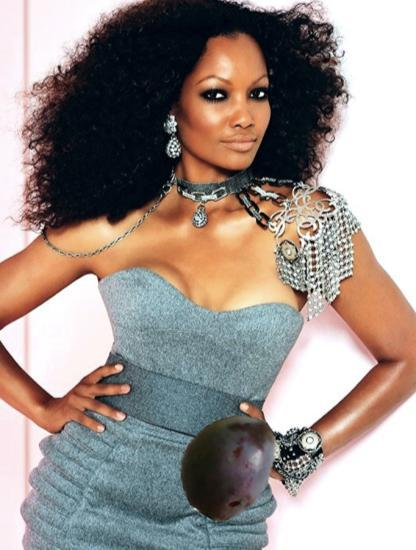Plum: (172, 408, 284, 520)
